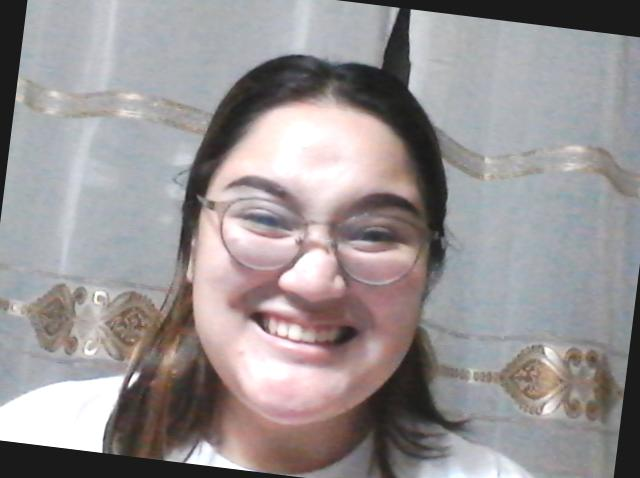senang: (175, 100, 448, 430)
